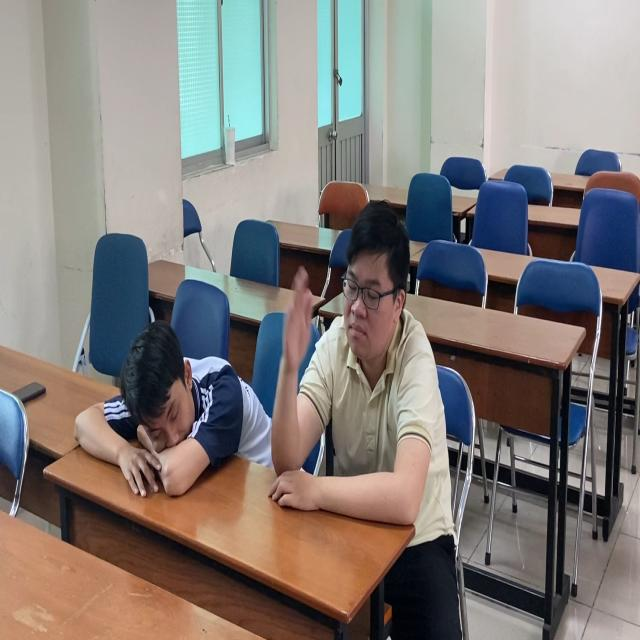sleep: (68, 320, 254, 517)
